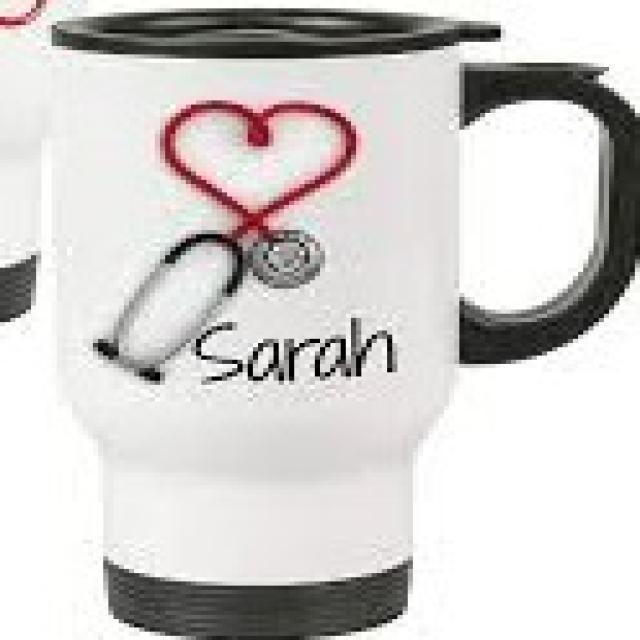taza: (30, 10, 640, 640)
